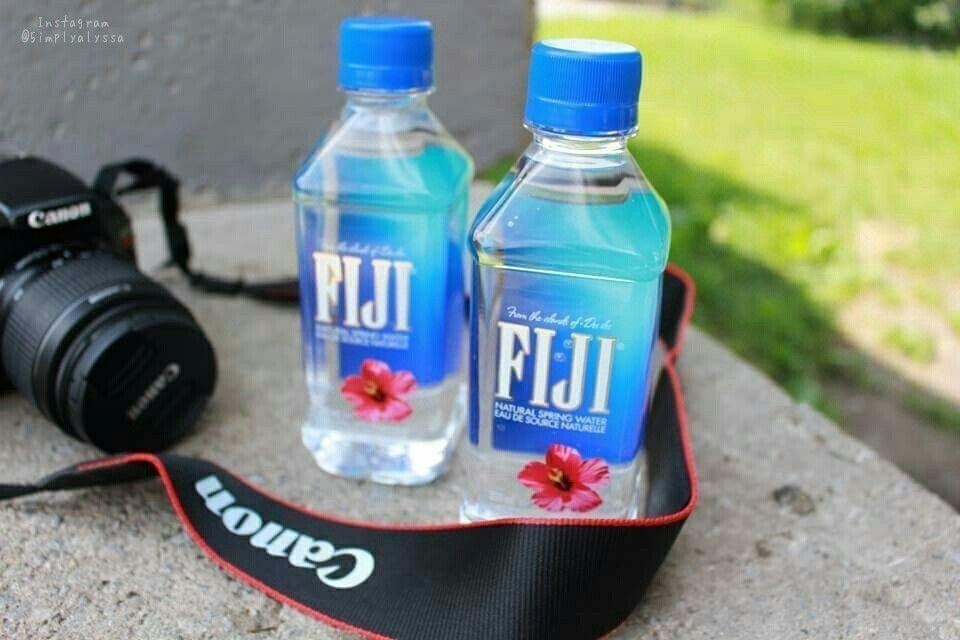bottle-plastic: (468, 32, 671, 516), (290, 16, 476, 486)
